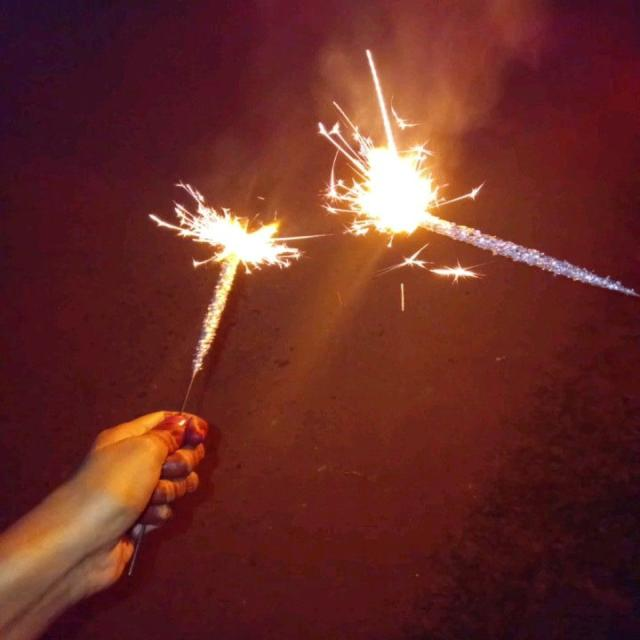fire: (357, 148, 439, 232), (198, 209, 297, 262)
